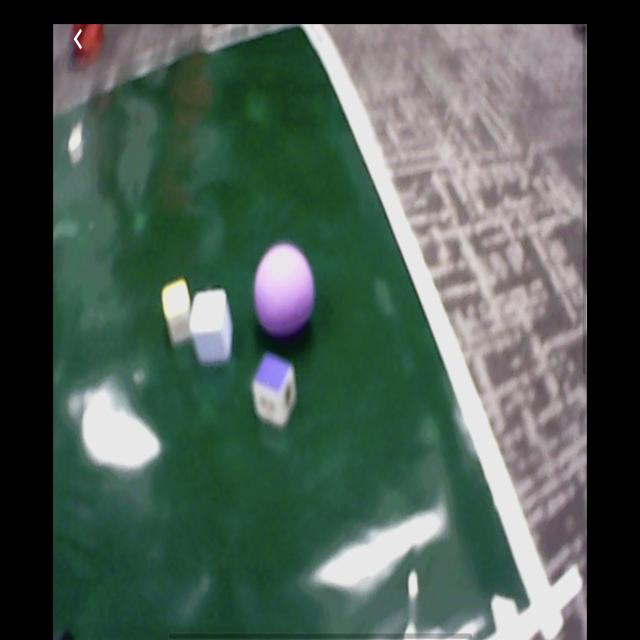ball: (254, 243, 316, 337)
